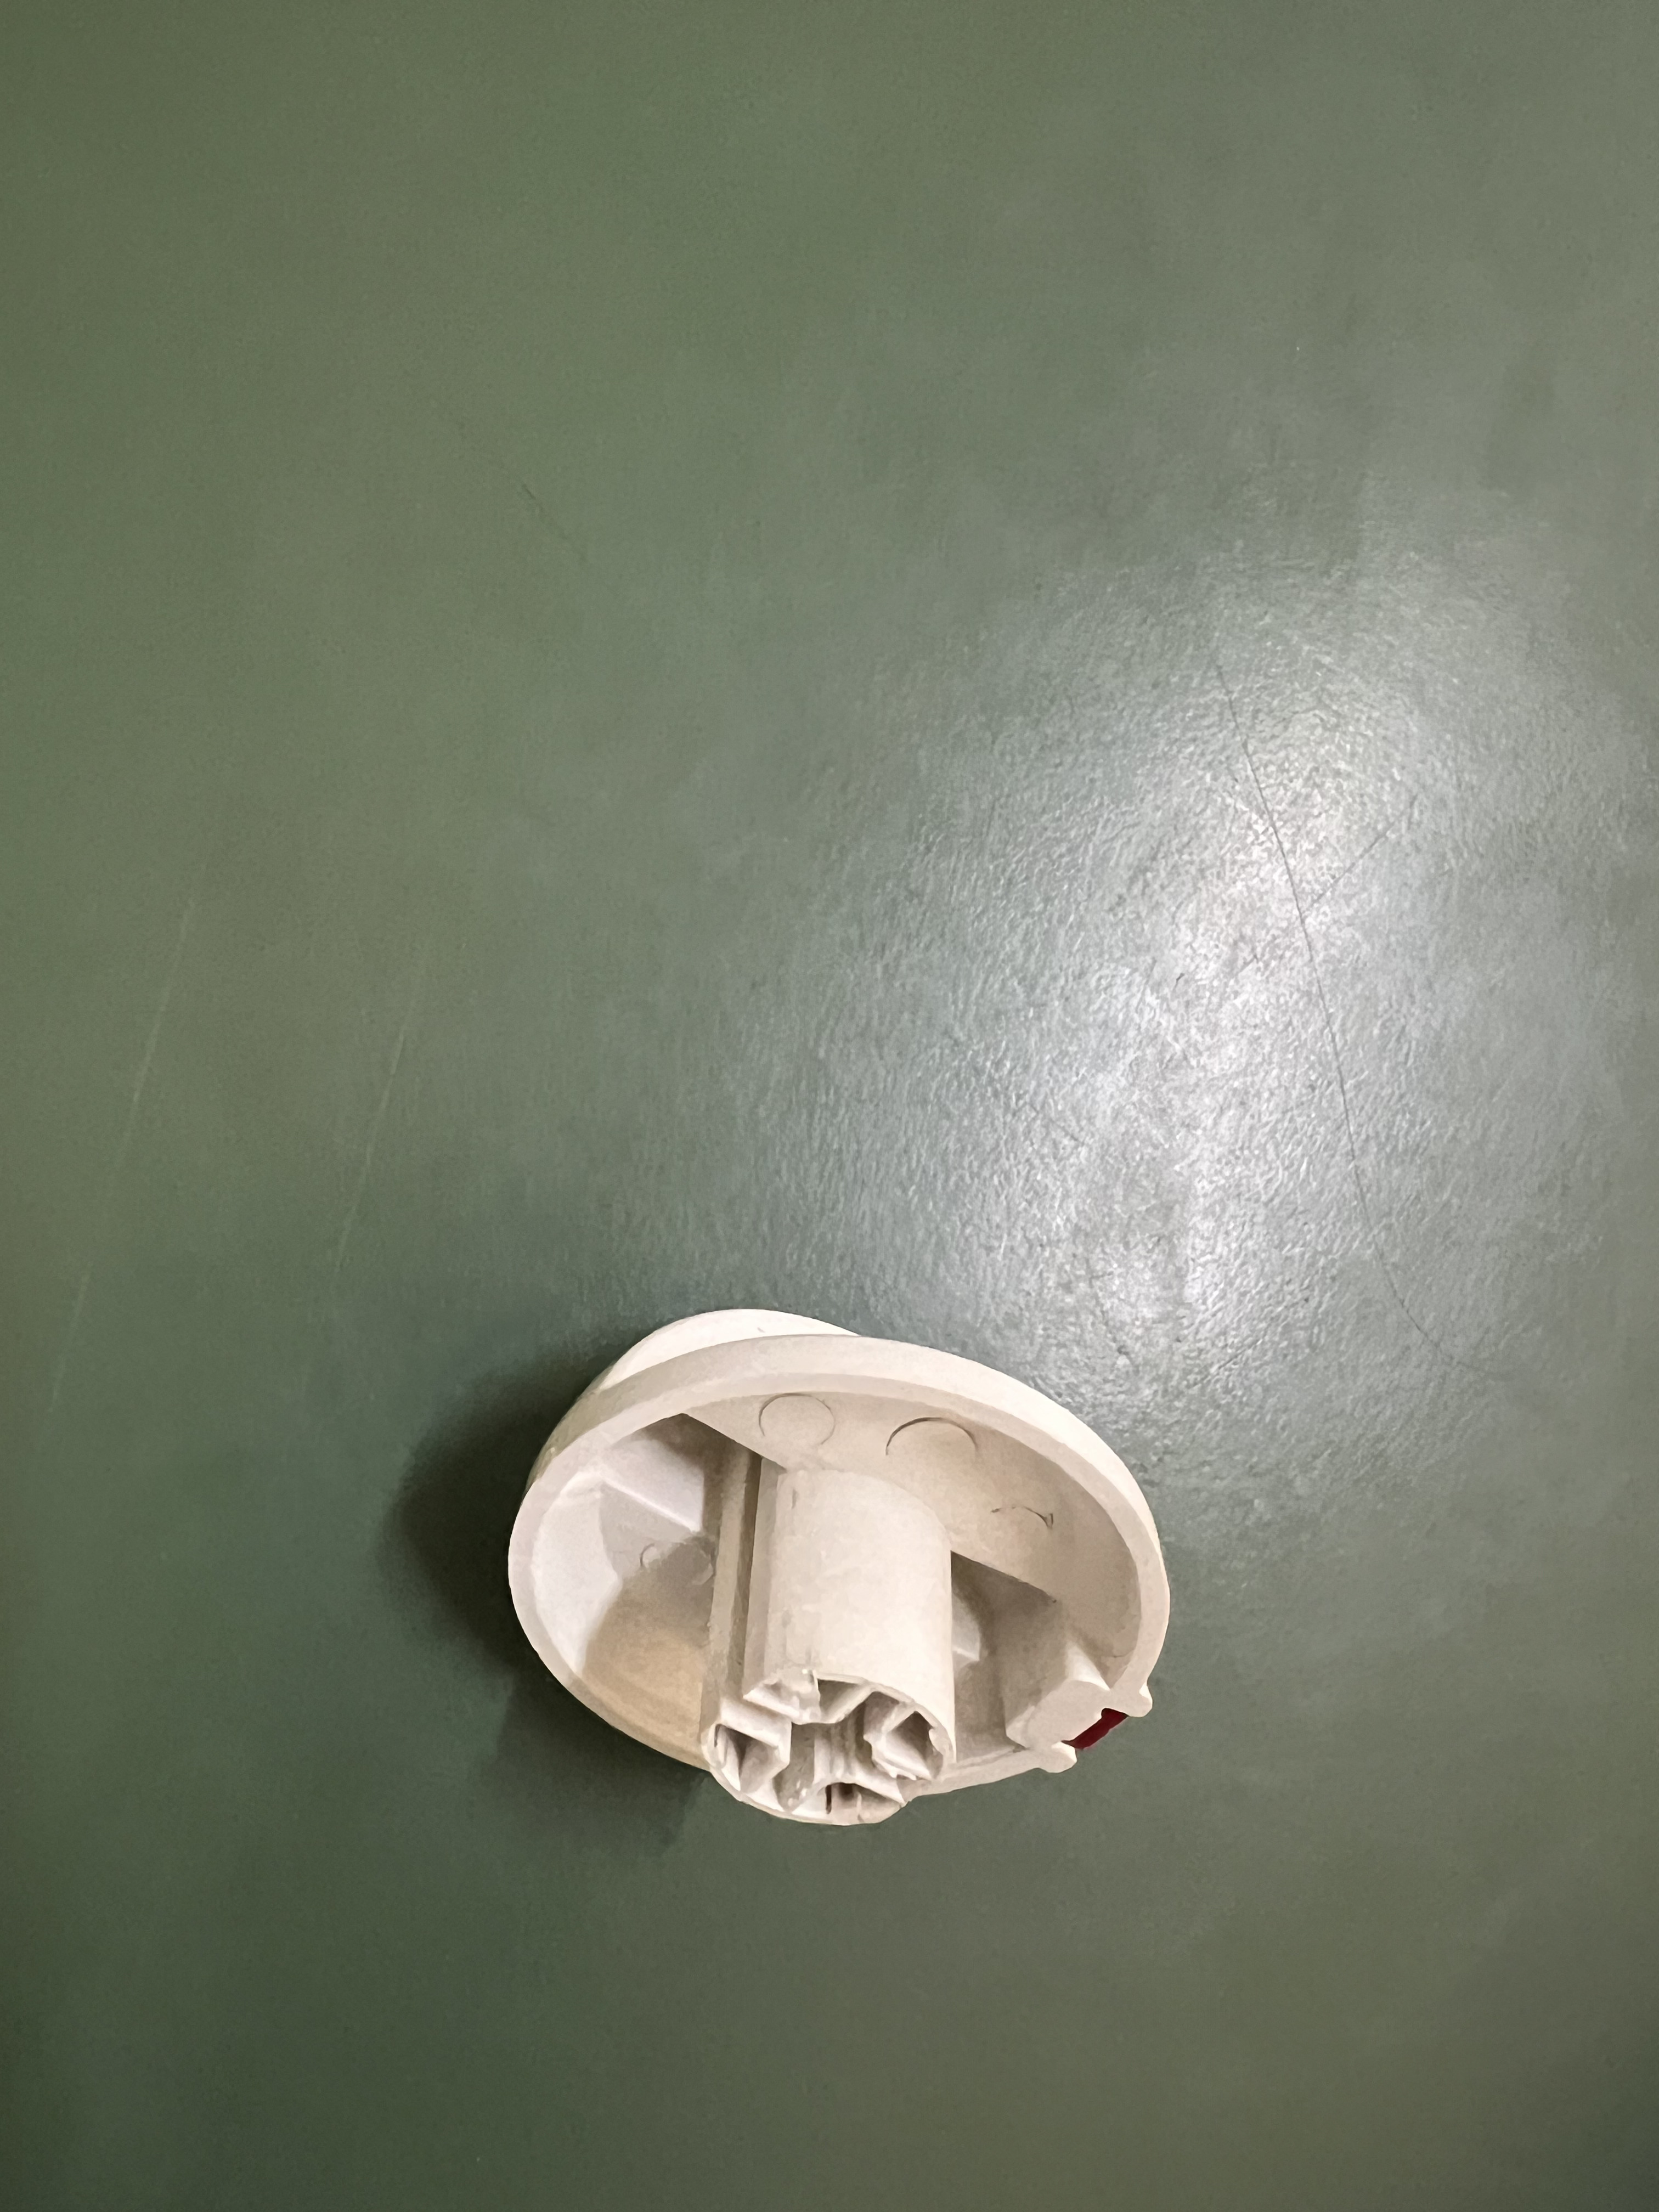regulator: (490, 1282, 1222, 1838)
